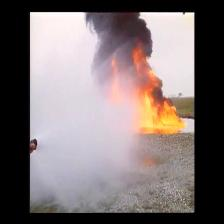fire: (112, 60, 180, 135)
smoke: (89, 11, 153, 59)
